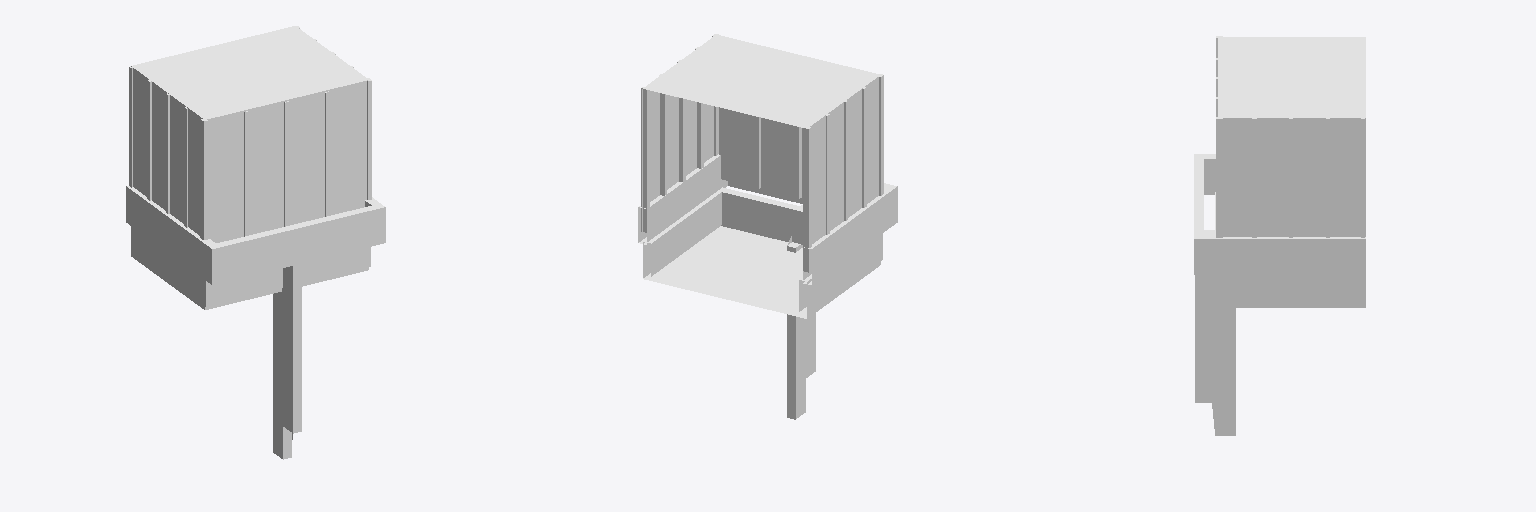
Rendered from b_zabudowany.obj.
3 views of the same model, side by side, from view 1: azimuth 30°, elevation 25°; view 2: azimuth 150°, elevation 25°; view 3: azimuth 270°, elevation 25° (orthographic).
Parts seen in each view (by area): view 1: b_zabudowany; view 2: b_zabudowany; view 3: b_zabudowany.
Boxes of the visible parts, <box> form: b_zabudowany: <box>126,26,385,459</box>; b_zabudowany: <box>638,34,897,419</box>; b_zabudowany: <box>1194,36,1365,435</box>.
Bounding box in the file's own units: 204 × 403 × 176.